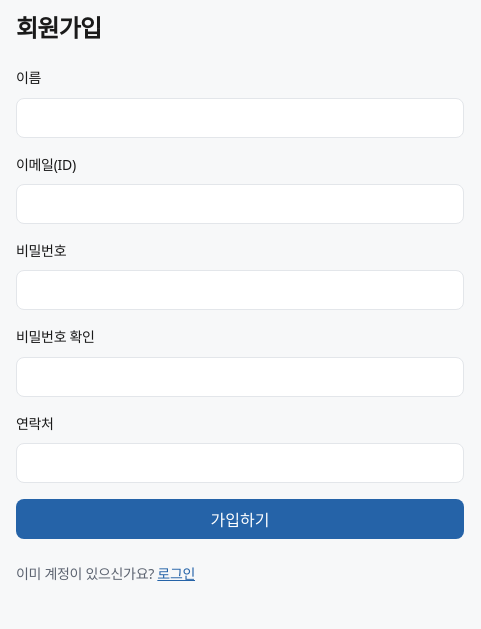
Scenario: 회원가입 폼 클라이언트 검증 › 비밀번호가 8자 미만이면 거부한다
In the field labelled "이름": (240, 118) x1=16 y1=98 x2=464 y2=138, type "김색소"
In the field labelled "이메일(ID)": (240, 204) x1=16 y1=184 x2=464 y2=224, type "sax@example.com"
In the password field labelled "비밀번호": (240, 290) x1=16 y1=270 x2=464 y2=310, type "password123"
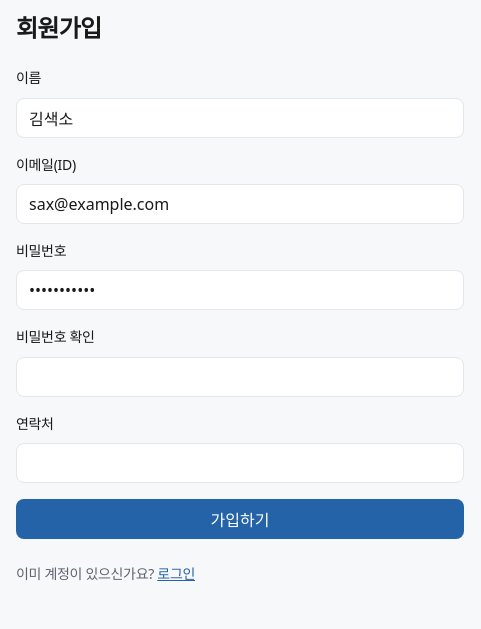
In the password field labelled "비밀번호 확인": (240, 377) x1=16 y1=357 x2=464 y2=397, type "password123"
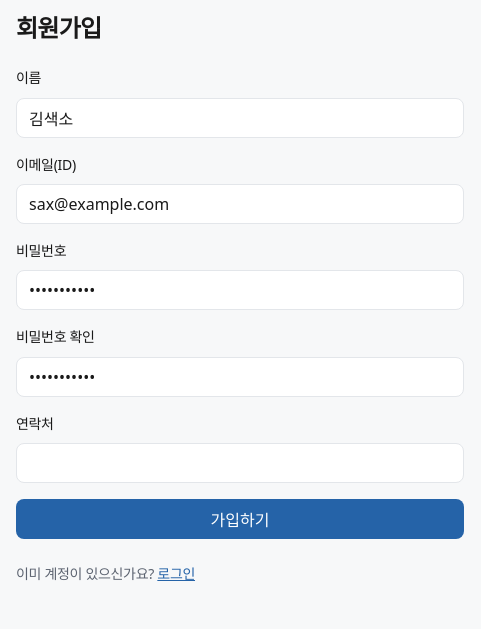
In the field labelled "연락처": (240, 463) x1=16 y1=443 x2=464 y2=483, type "010-1234-5678"
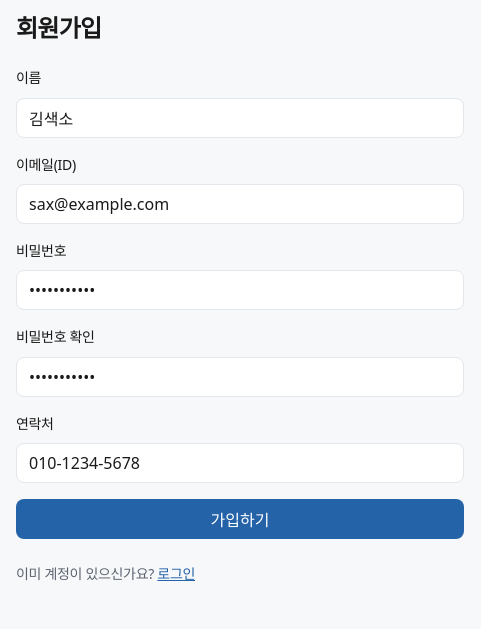
In the password field labelled "비밀번호": (240, 290) x1=16 y1=270 x2=464 y2=310, type "short"
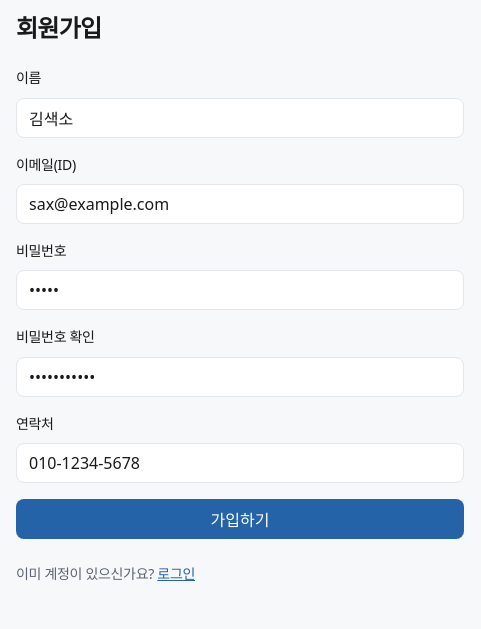
In the password field labelled "비밀번호 확인": (240, 377) x1=16 y1=357 x2=464 y2=397, type "short"
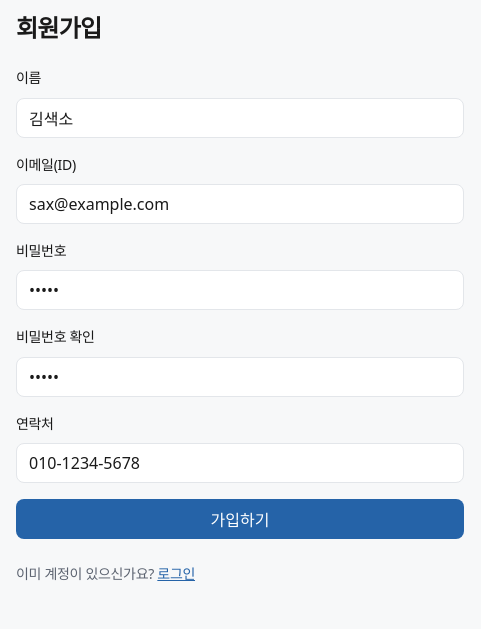
Click the button "가입하기": (240, 519) x1=16 y1=499 x2=464 y2=539
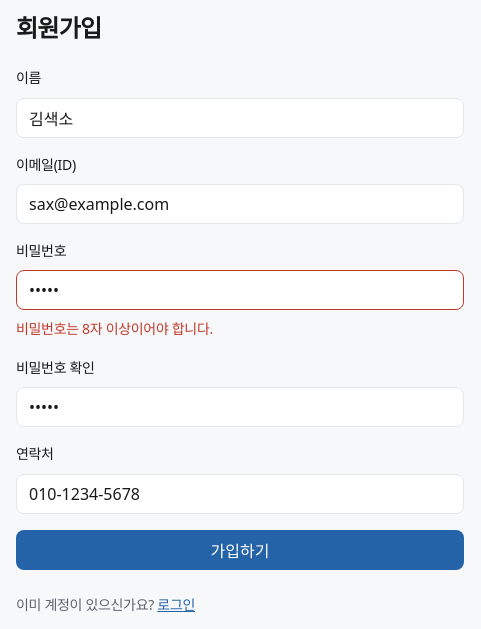
Result: the text "비밀번호는 8자 이상이어야 합니다." is shown at x1=16 y1=319 x2=213 y2=338
